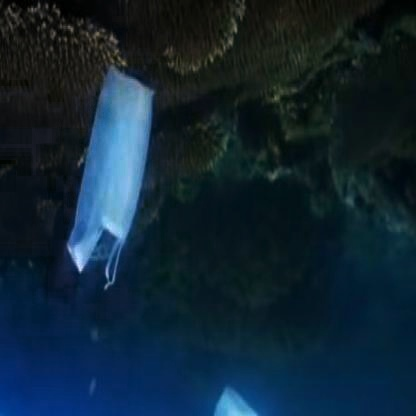plastic: (66, 48, 166, 330)
